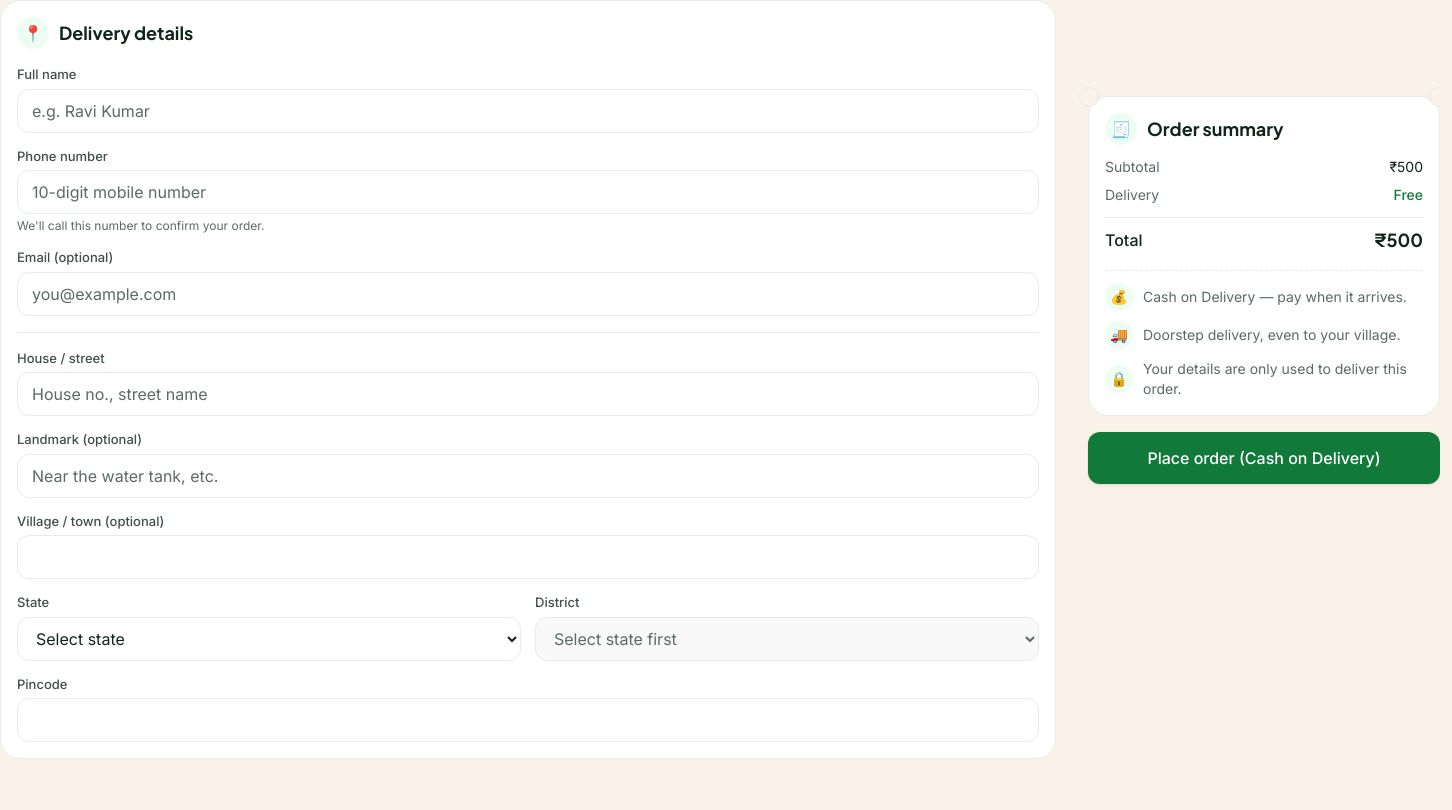
Test: CheckoutForm › flags House / street left empty on blur
Click the field labelled "House / street" at (528, 394), box [17,372,1039,416]
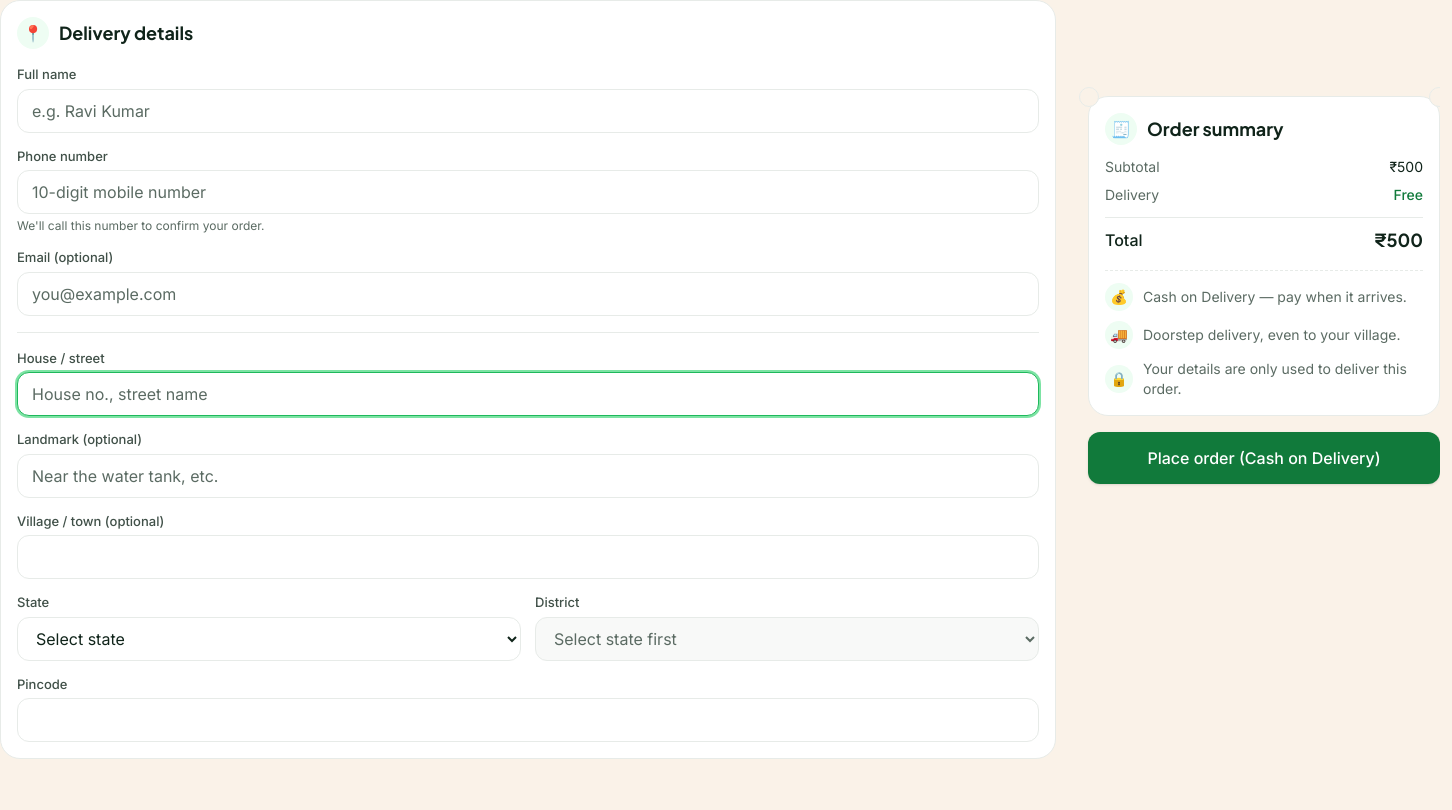
Press Tab
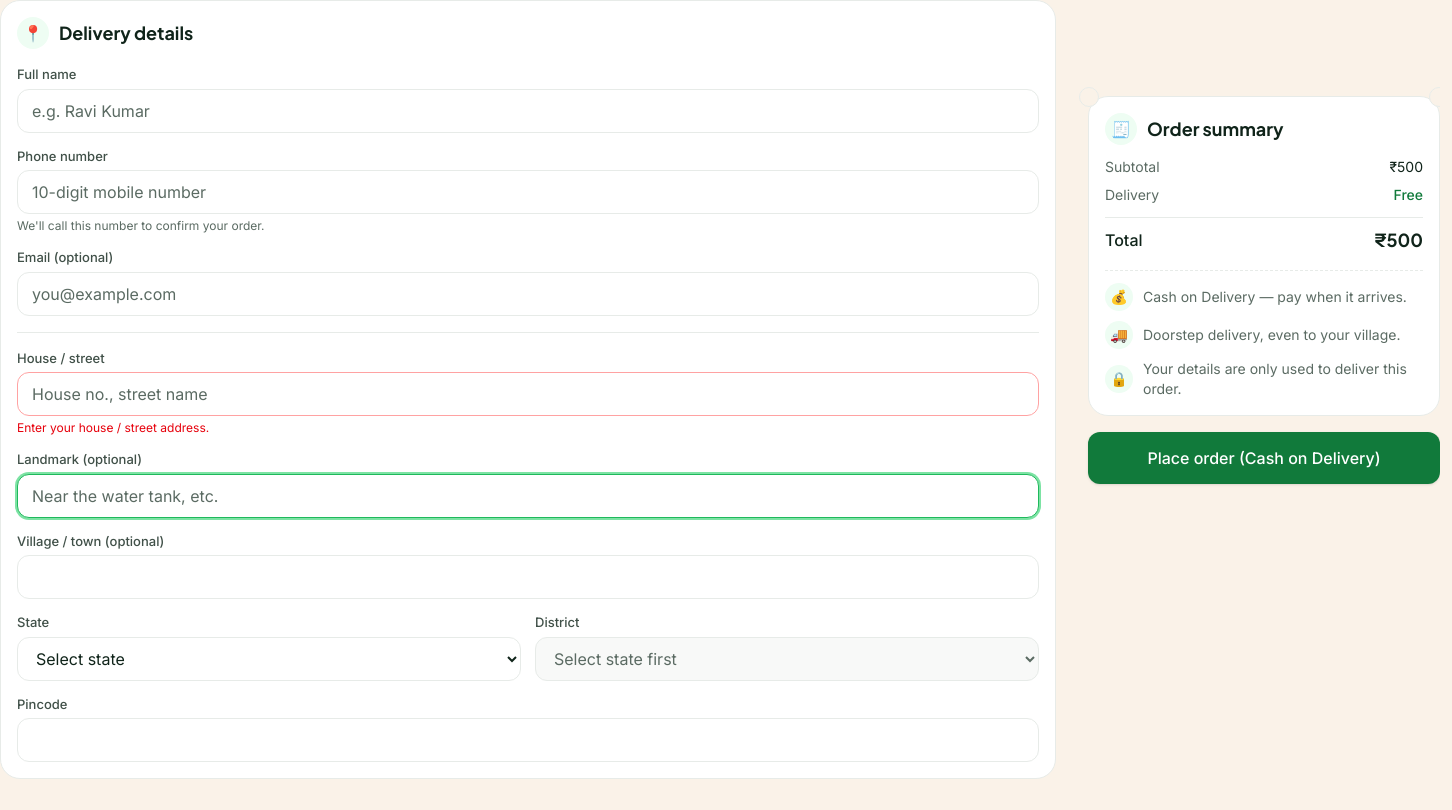
Now the text "Enter your house / street address." is shown, box [17,420,209,435]
